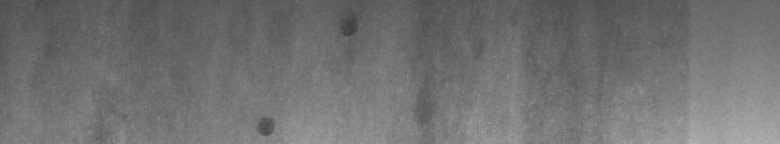fi: (253, 112, 279, 136)
